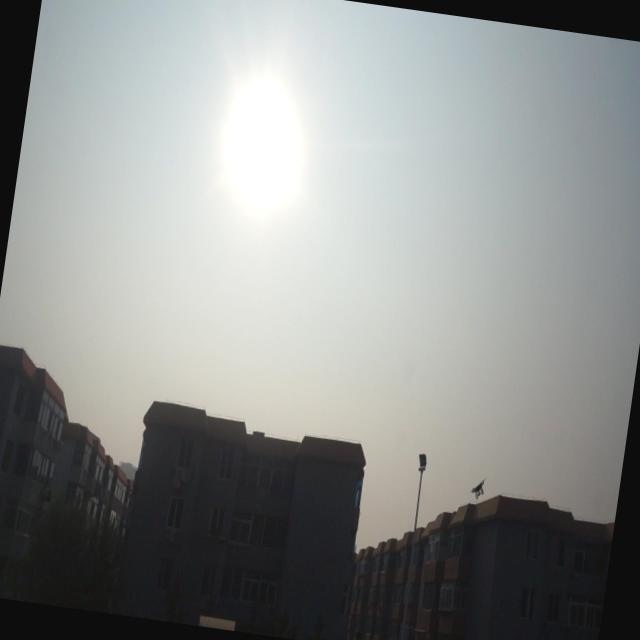drone: (464, 470, 491, 508)
